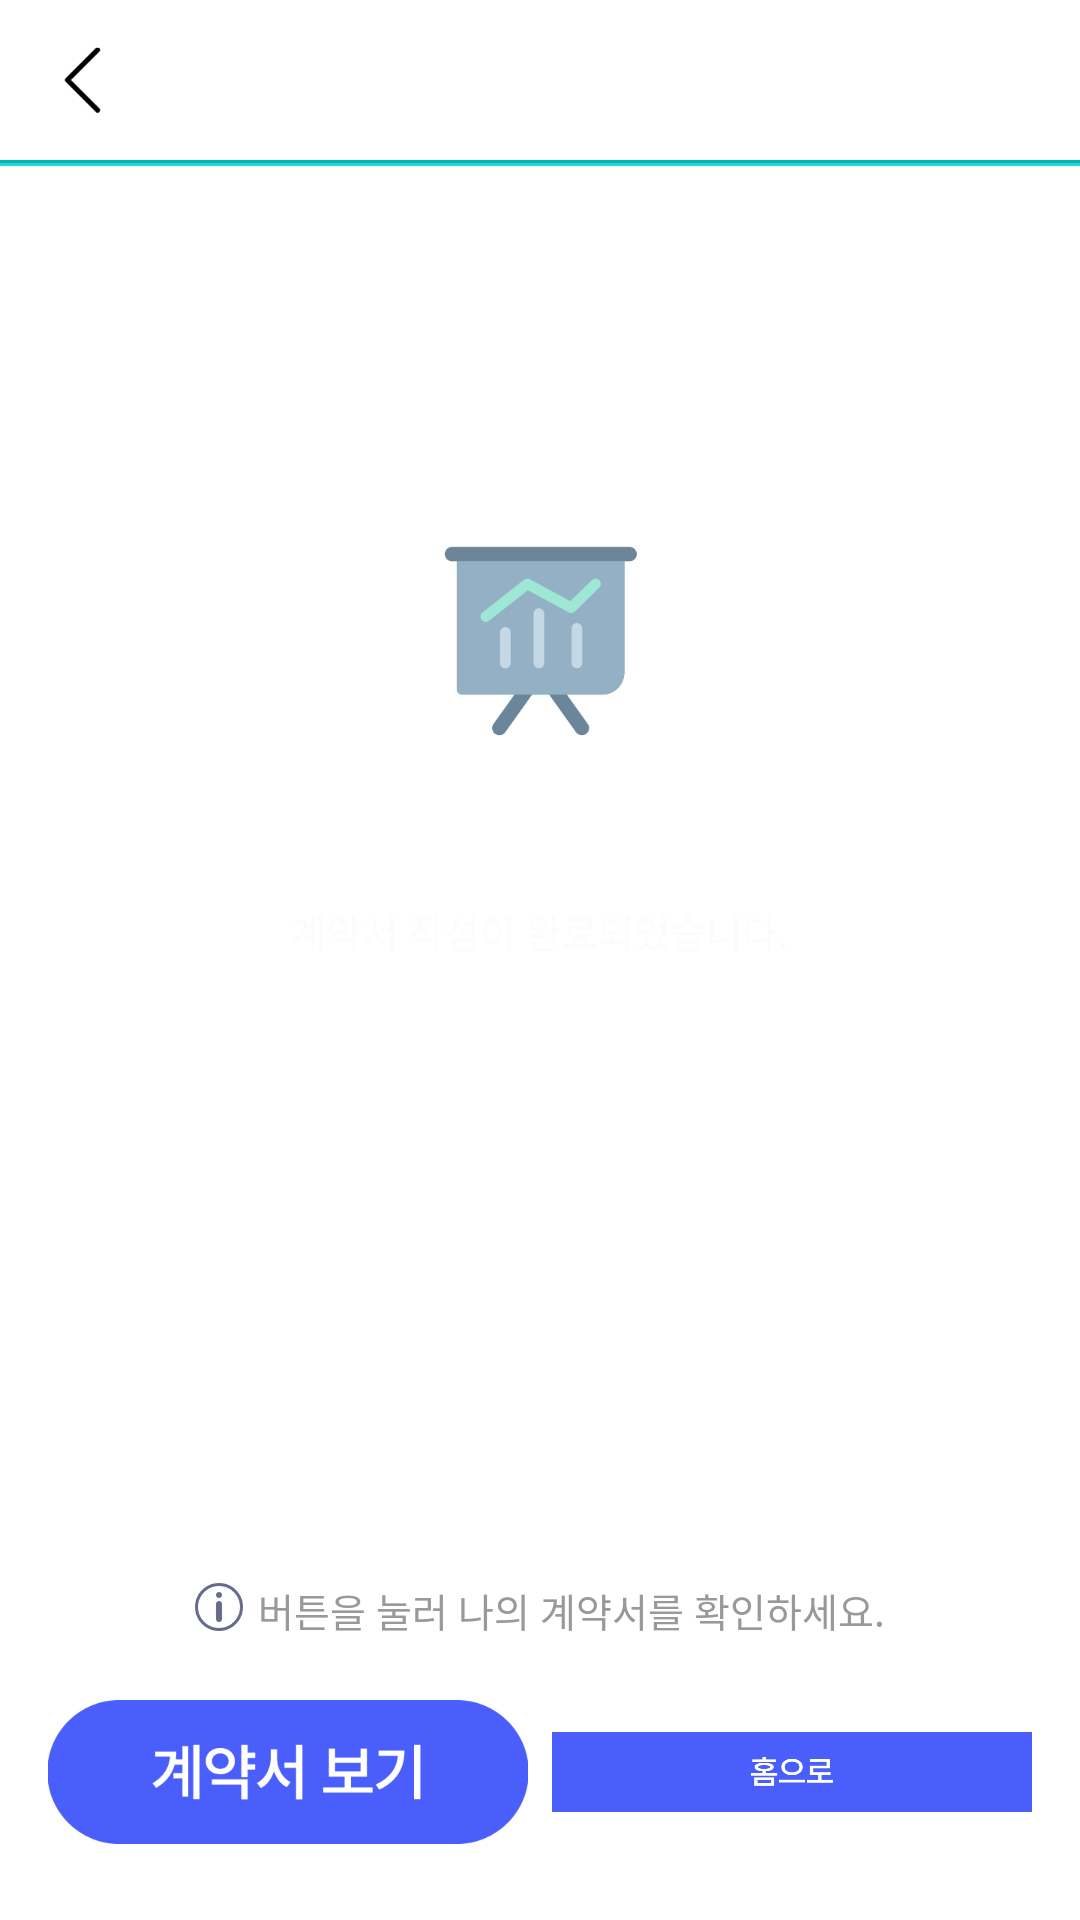

Icons on this 1080×1920 Android screen, each with the point to tap as [x,y]:
graphics check: [541,641]
login info: [219,1607]
top back: [82,80]
